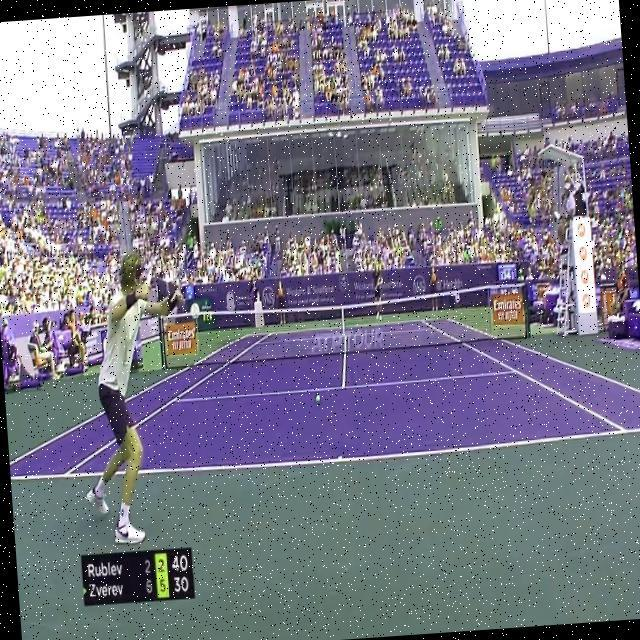court: (1, 304, 640, 485)
net: (156, 278, 532, 364)
player: (65, 190, 214, 546)
